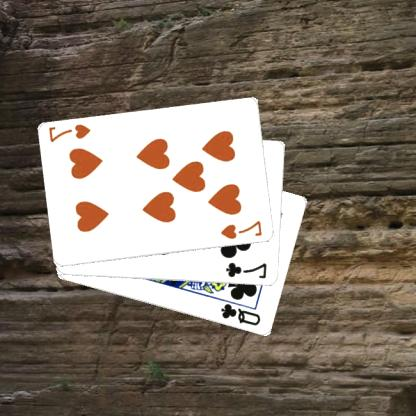7C: (225, 260, 270, 280)
7H: (219, 218, 266, 241), (48, 121, 94, 144)
QC: (220, 300, 264, 328)
